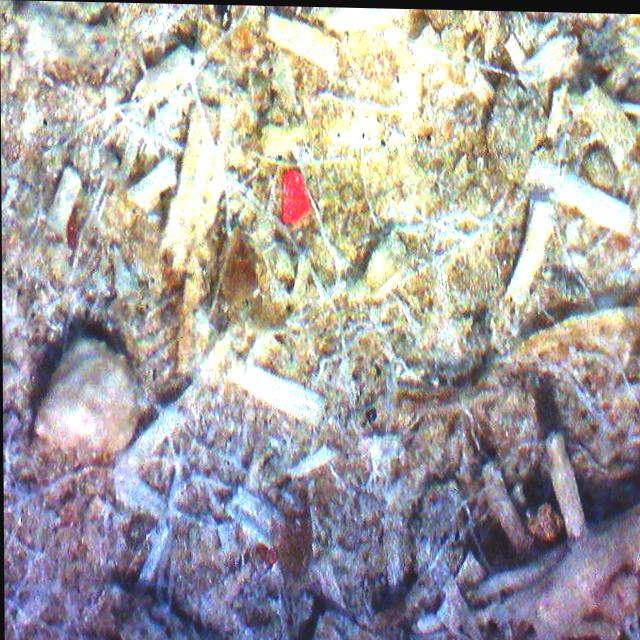microplastic: (281, 166, 313, 224)
